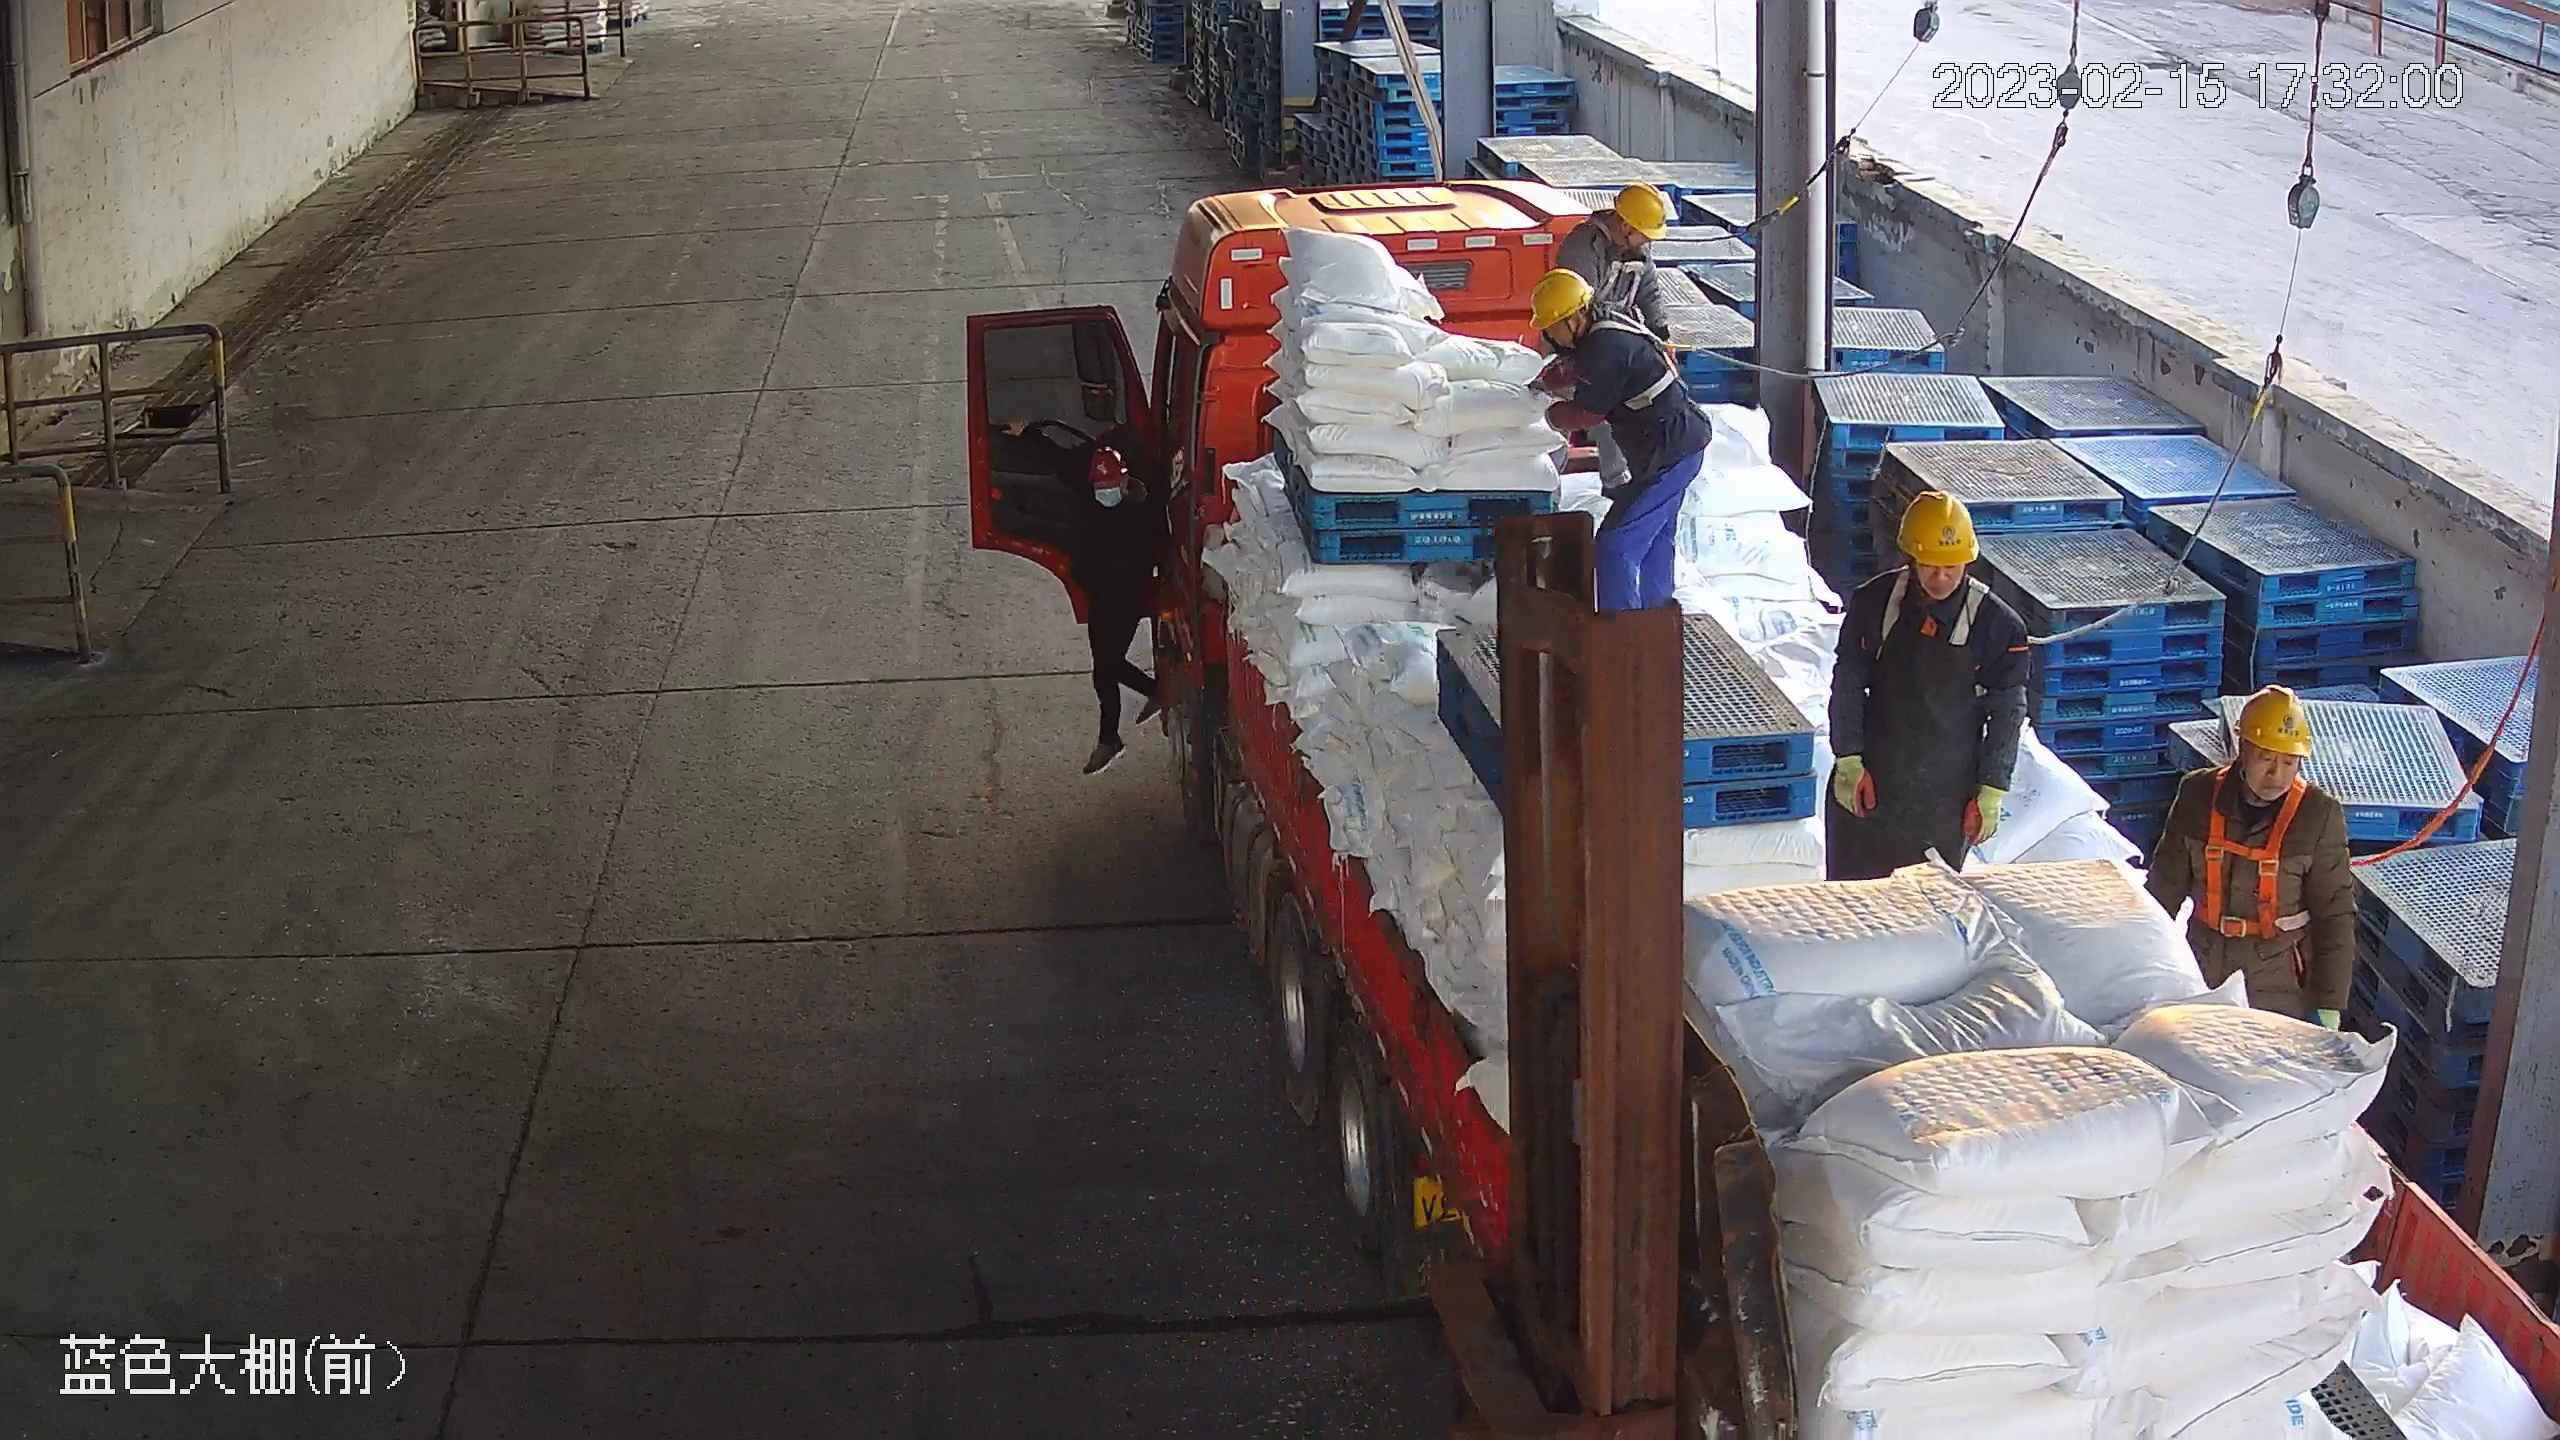belt: (2188, 764, 2376, 943), (1881, 566, 2052, 669), (1572, 311, 1705, 412), (1583, 218, 1669, 316)
head: (1842, 488, 2028, 645), (2171, 681, 2346, 830), (1527, 267, 1671, 365), (1567, 181, 1662, 272), (1064, 440, 1158, 525)
helmet: (1895, 489, 1981, 567), (2232, 681, 2314, 760), (1527, 266, 1597, 332), (1612, 181, 1668, 243), (1086, 445, 1129, 484)
people: (1822, 489, 2029, 884), (2143, 681, 2356, 1037), (1524, 265, 1718, 616), (1002, 418, 1176, 780)
truck: (958, 173, 2560, 1440)
